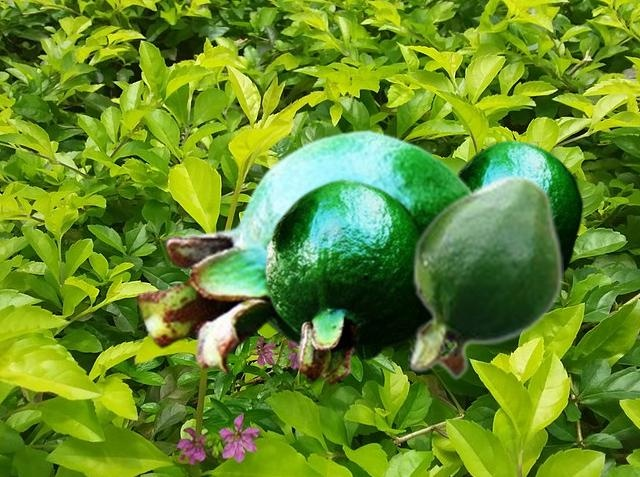guava: (135, 128, 471, 375), (264, 178, 422, 385), (408, 173, 562, 380), (458, 139, 583, 274)
